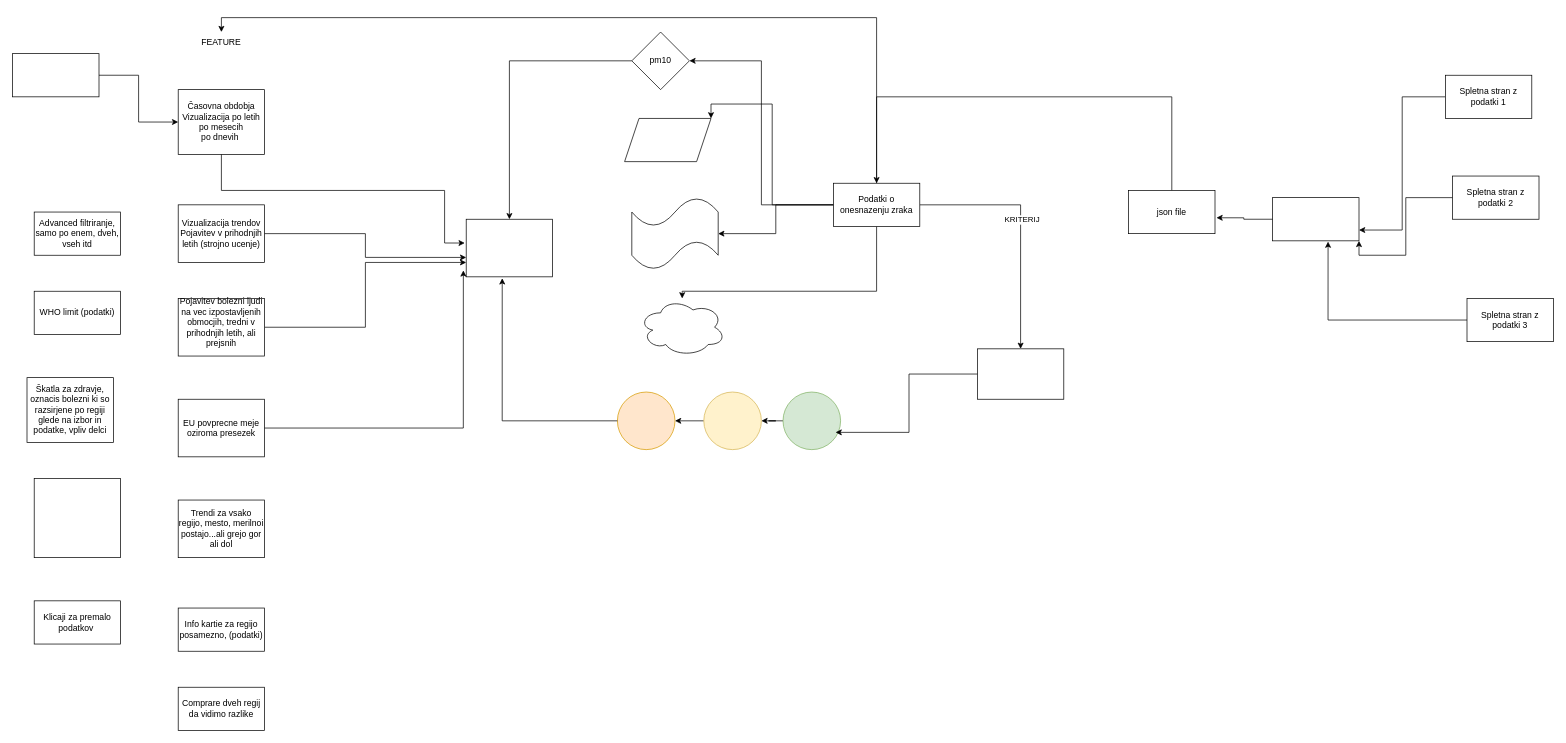
Some shapes in this 1566 by 743 pixel diagram are drawn without their labels. The centre of each missing label's shape, as x and y in pixels:
mapo slovenija (vega lite, lahk kej druzga): (x=509, y=248)
NO2: (x=681, y=327)
o3: (x=667, y=140)
Ocena risk za neko bolezen v regiji, formula oziroam algo v literaturi: (x=77, y=518)
pm2,5: (x=674, y=233)
Podatki o vplivu na zdravje delcev: (x=1020, y=373)
Python skripta: (x=1315, y=219)
Slider: (x=55, y=75)
